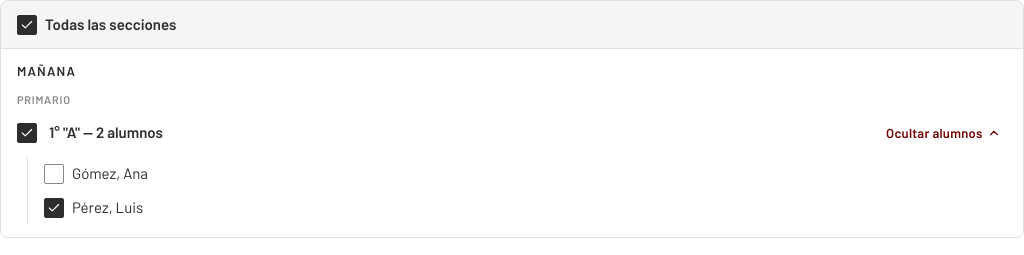
it: SeccionesSelector › con alumnos por sección › vuelve a plegar la lista nominal sin tocar la selección
Click the button "Ocultar alumnos".
click(944, 133)  # box [876,117,1011,149]
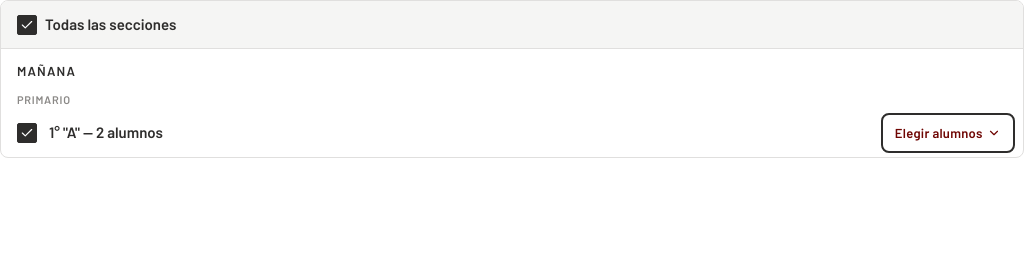
Result: the text "Pérez, Luis" is gone
